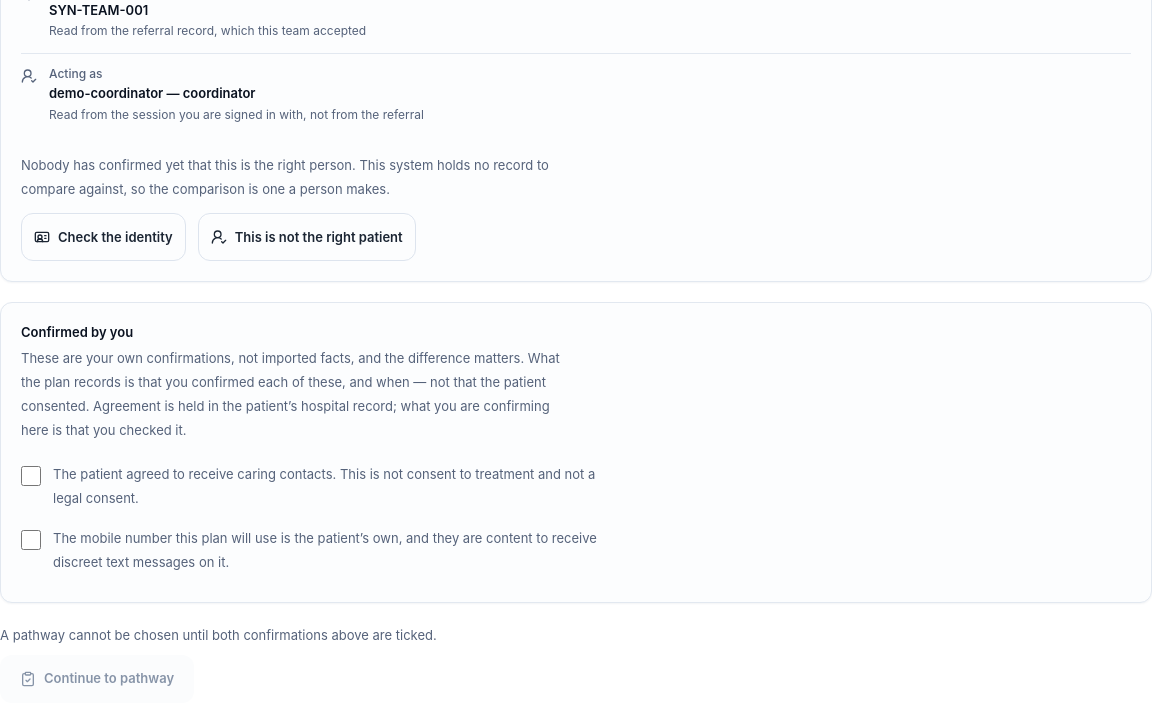
Test: the caring-contacts plan wizard — stage 2, pathway (Ruling [113]) › reads as changing an earlier decision once the coordinator picks something else
(page scrolled)
What coordinates should you click on to do the following:
click the 1st checkbox
I would click on:
 (31, 476)
Its box is x1=21 y1=466 x2=41 y2=486.
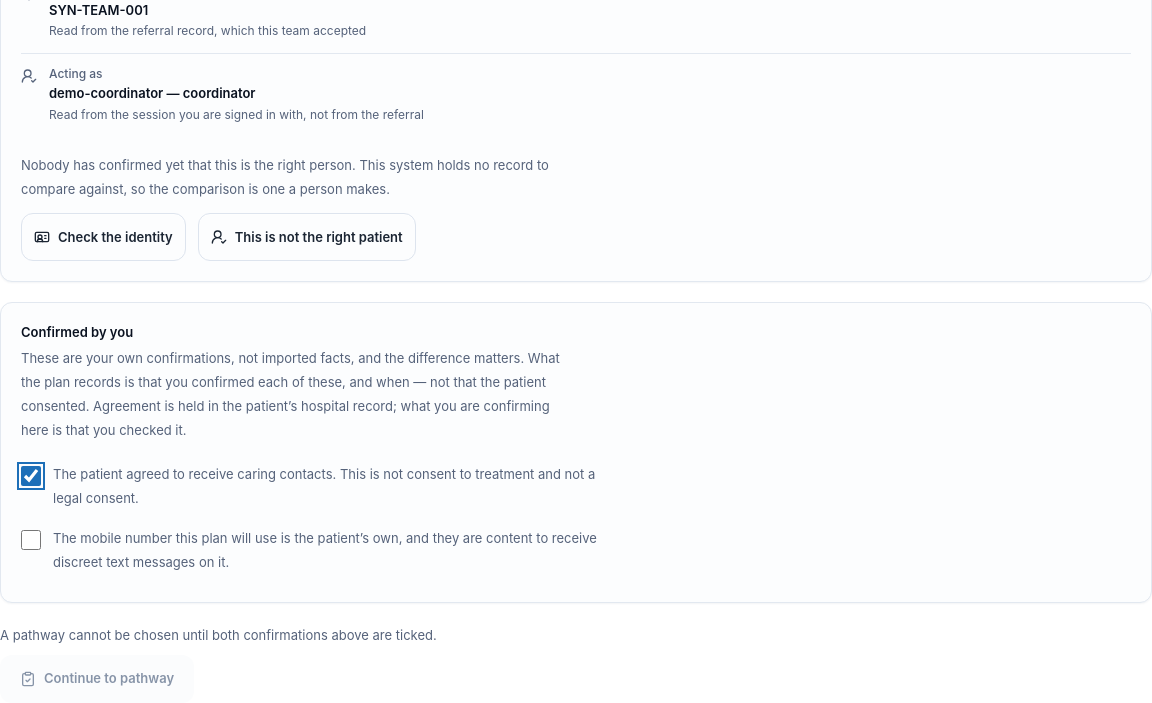
What coordinates should you click on to do the following:
click the 2nd checkbox
I would click on:
 (31, 540)
Its box is x1=21 y1=530 x2=41 y2=550.
(page scrolled)
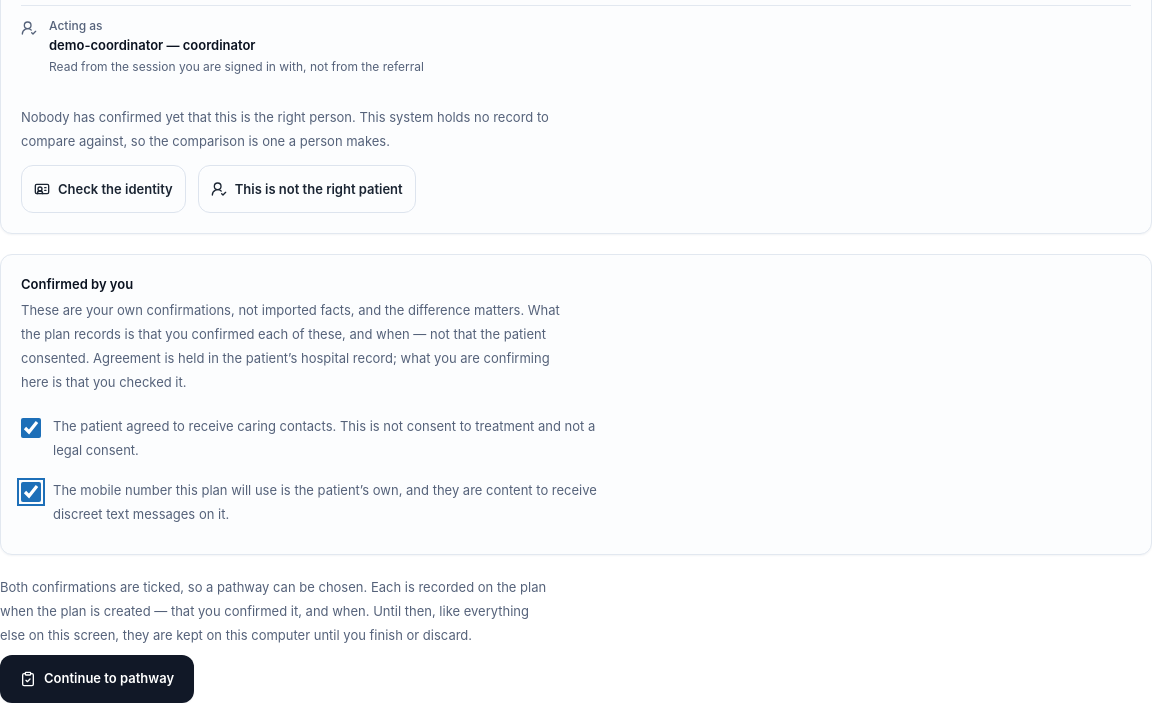
What coordinates should you click on to do the following:
click the button "Continue to pathway"
I would click on:
 (97, 678)
Its box is x1=0 y1=654 x2=194 y2=702.
(page scrolled)
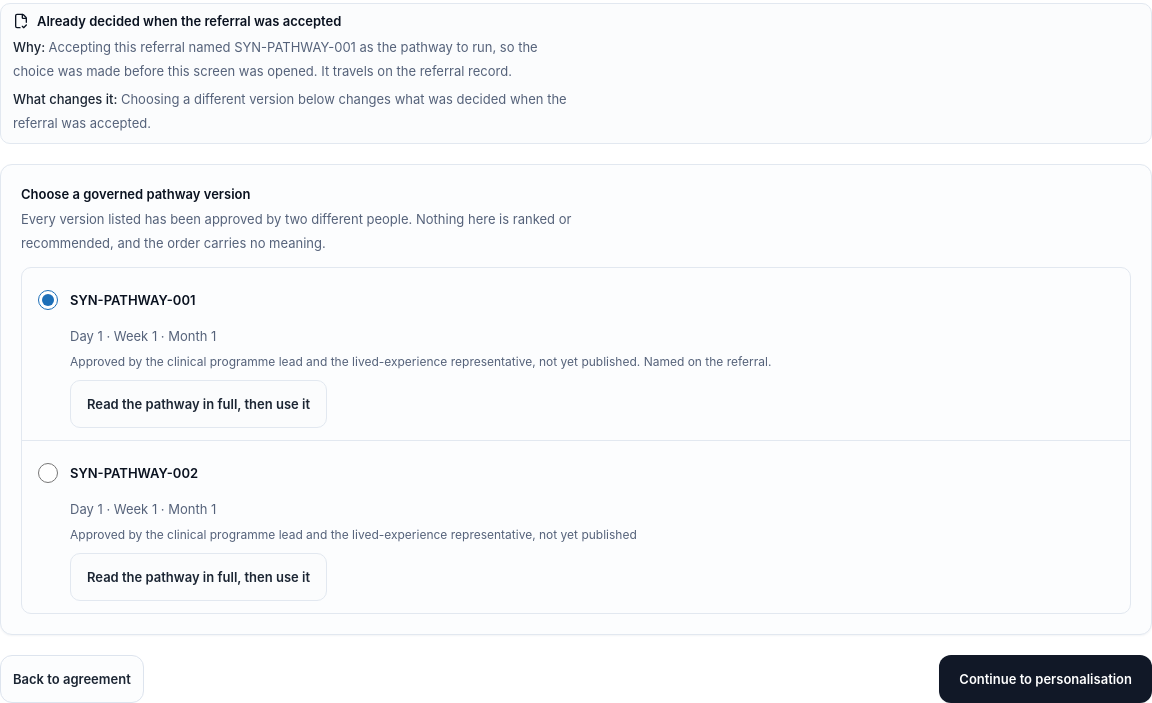
What coordinates should you click on to do the following:
click the radio button labelled "SYN-PATHWAY-002"
I would click on:
 (48, 473)
Its box is x1=38 y1=463 x2=58 y2=483.
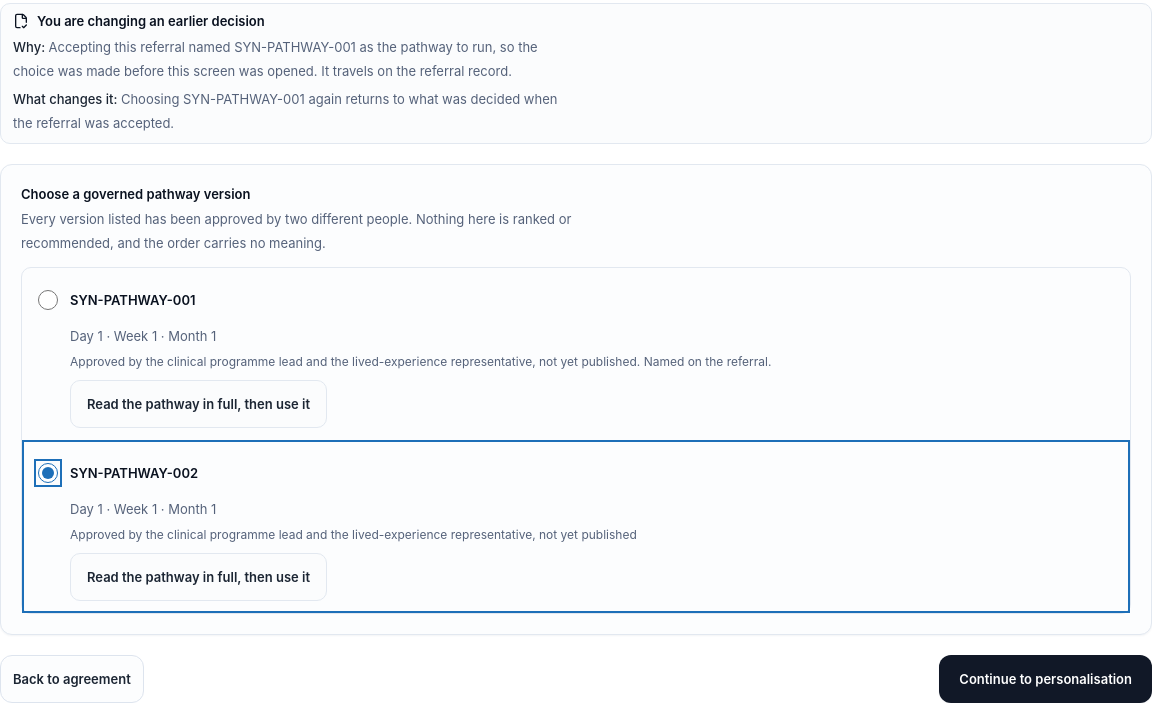
Check: the element "You are changing an earlier decision" shows "SYN-PATHWAY-001", box x1=13 y1=39 x2=538 y2=79
Check: the element "You are changing an earlier decision" shows "returns to what was decided when the referral was accepted", box x1=13 y1=91 x2=557 y2=131
